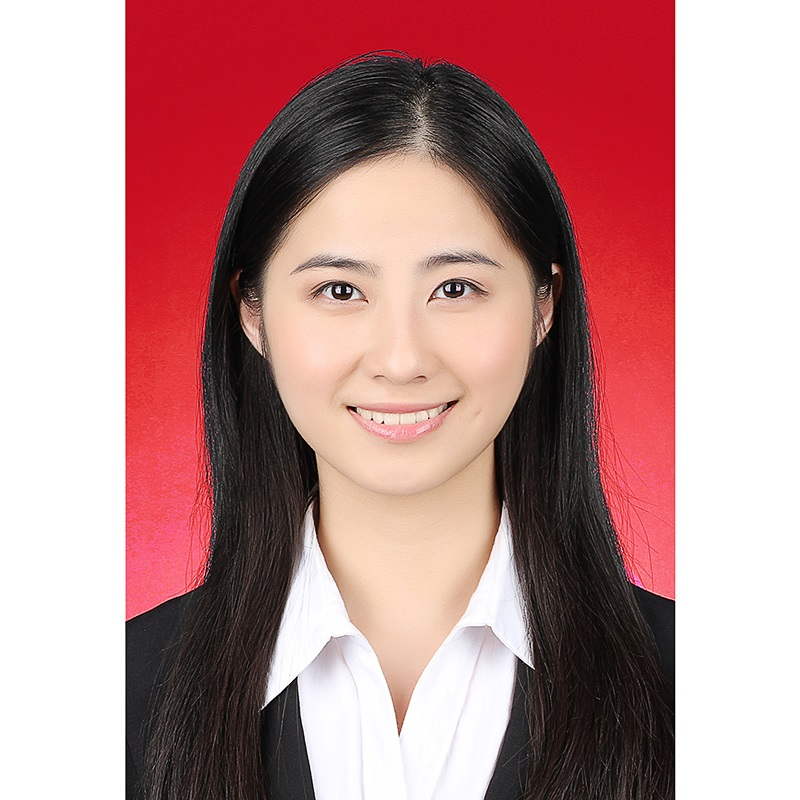unmask: (274, 183, 536, 481)
